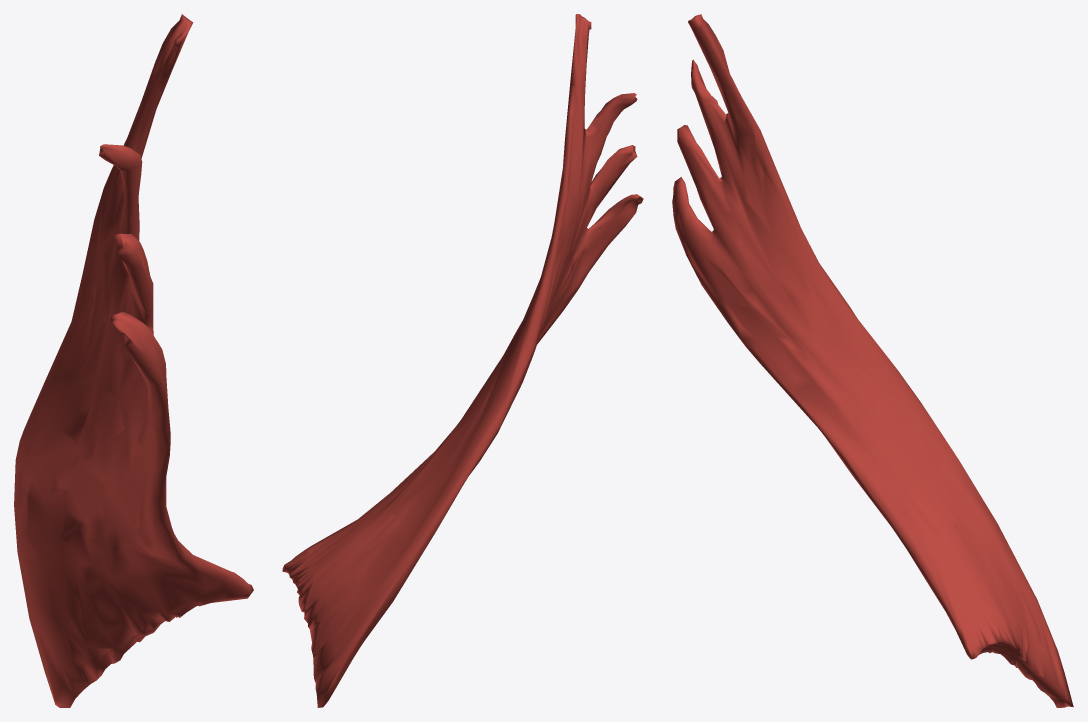
Rendered from musculos-levator-scapulae-l.glb.
The picture shows the model from 3 angles, left to right: view 1: azimuth 30°, elevation 25°; view 2: azimuth 150°, elevation 25°; view 3: azimuth 270°, elevation 25°; orthographic projection. The views are drawn at different scales.
Visible parts, largest first — view 1: Levator scapulae.l; view 2: Levator scapulae.l; view 3: Levator scapulae.l.
Boxes of the visible parts, x1,y1,x2,y2 form: Levator scapulae.l: [14, 14, 253, 707]; Levator scapulae.l: [282, 14, 643, 707]; Levator scapulae.l: [672, 14, 1073, 707].
Bounding box in the file's own units: 0.0614 × 0.1528 × 0.0859.
